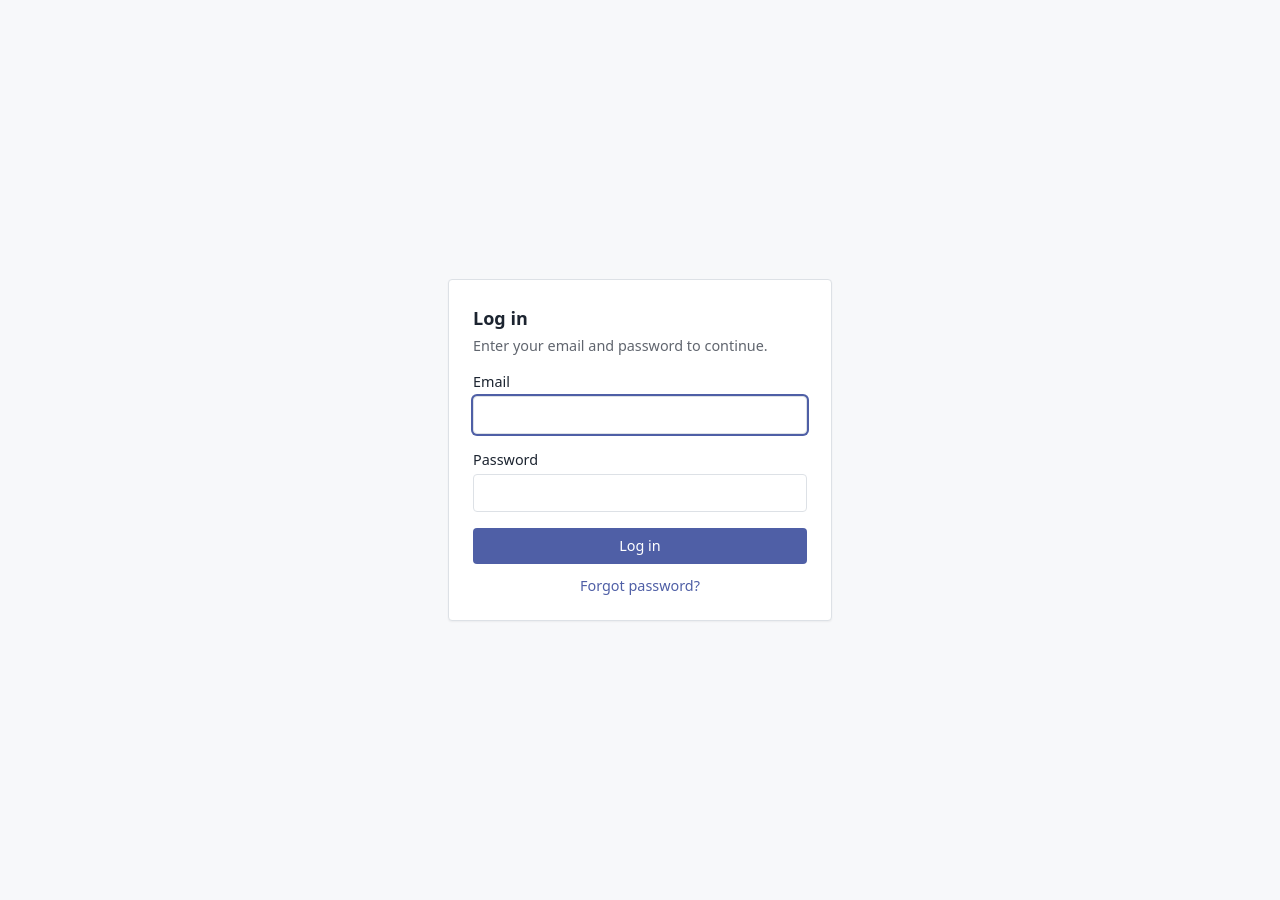
LoginGate › stores the token and resets queries on successful login
In the field labelled "Email": (640, 415) [473,396,807,434], type "jo@example.com"
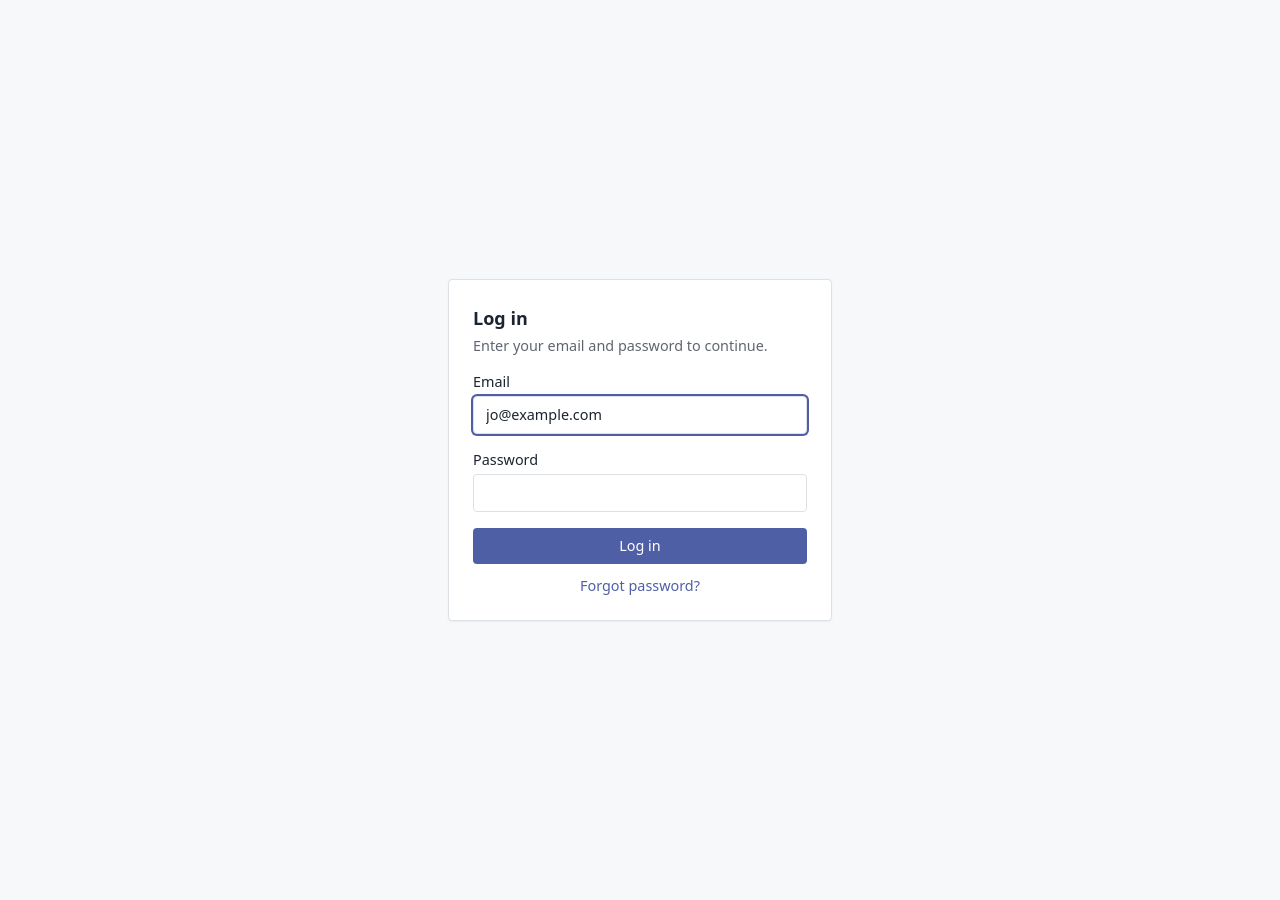
In the password field labelled "Password": (640, 493) [473,474,807,512], type "correct-password"
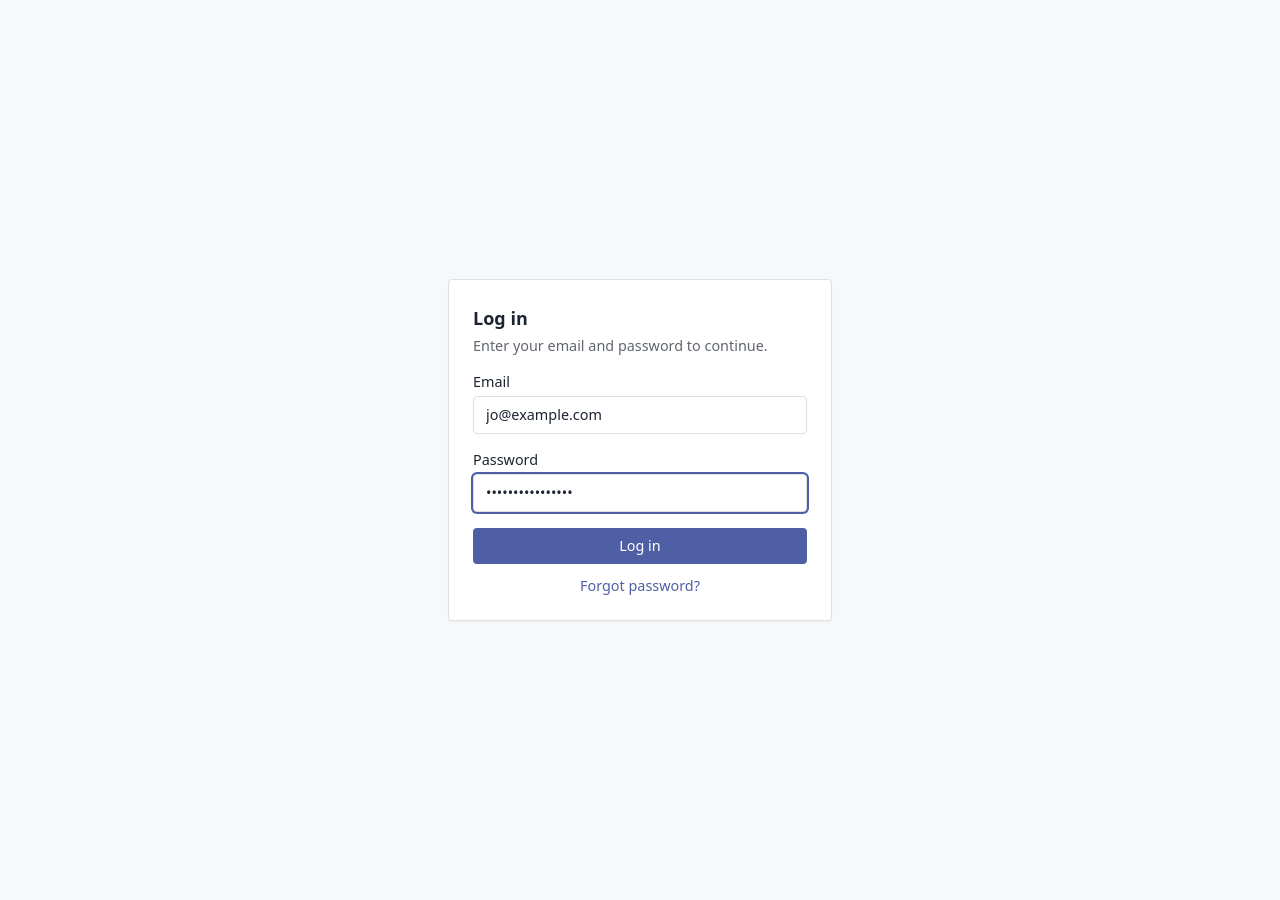
Click the button "Log in": (640, 546) [473,528,807,564]
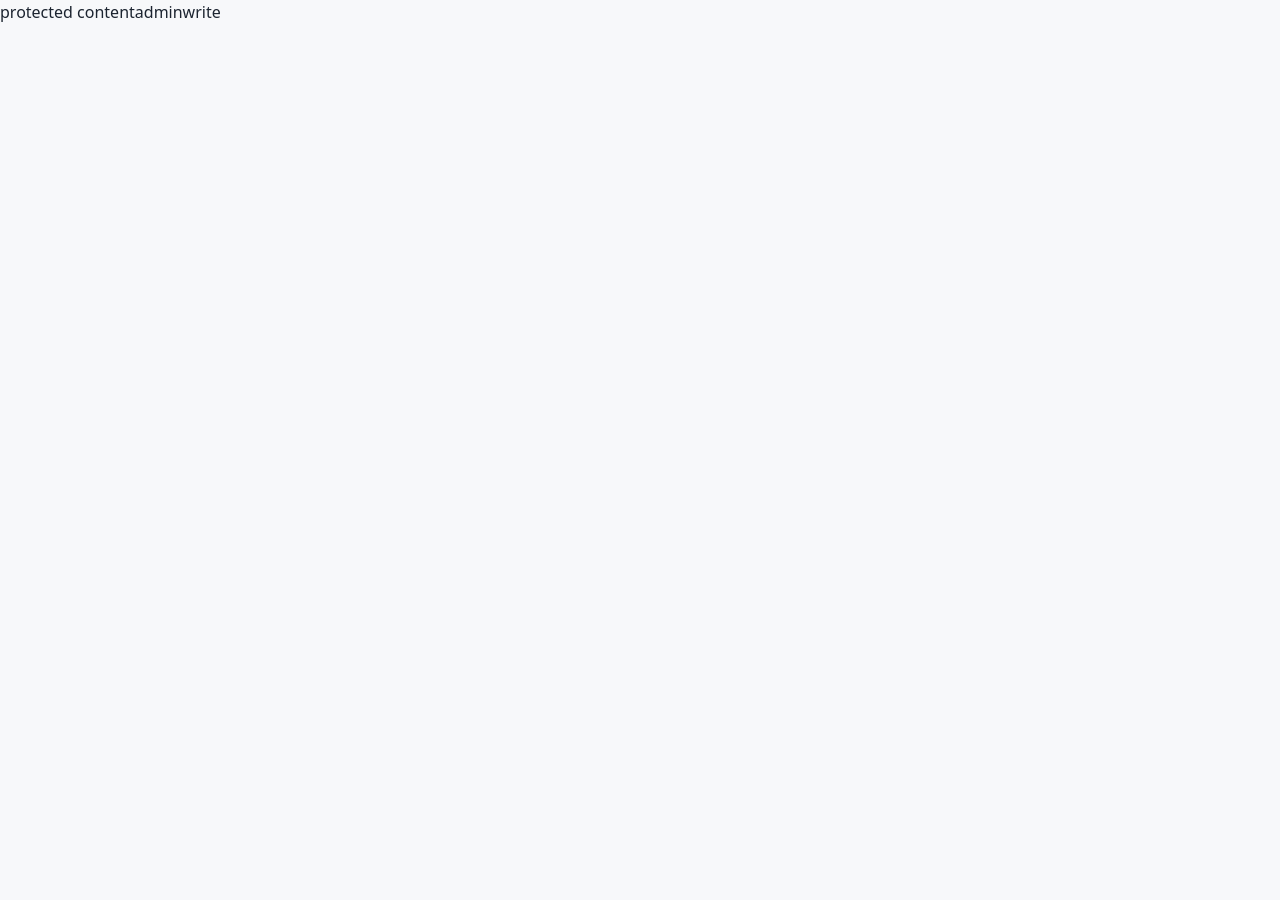
Expected: the text "protected content" is shown, [0,1,135,23]
